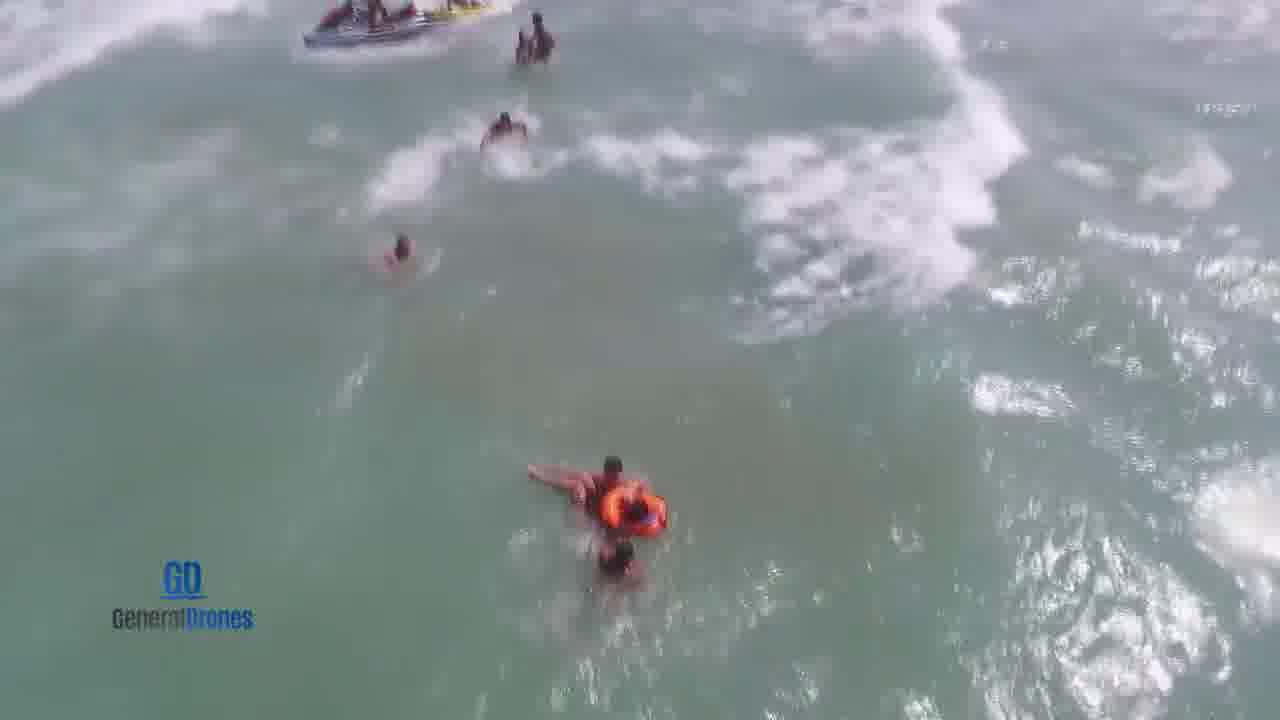human: (526, 455, 672, 532), (588, 530, 649, 581), (473, 110, 538, 153), (371, 227, 431, 271), (587, 451, 649, 491)
